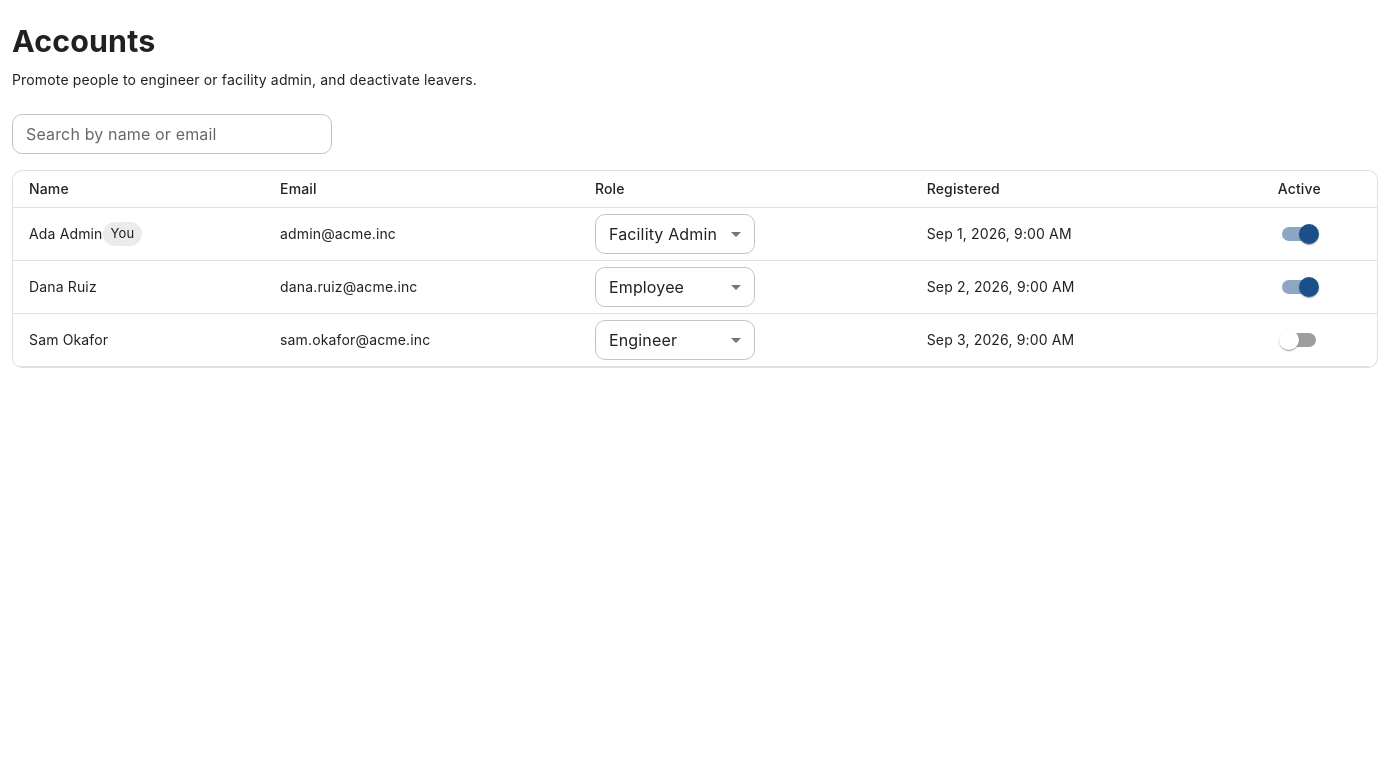
Test: activation › patches the activation state when toggled
Expected: the text "Dana Ruiz" is shown, [29,278,97,295]
Click the switch named "Active state for Dana Ruiz" at (1309, 287), box [1299,277,1319,297]
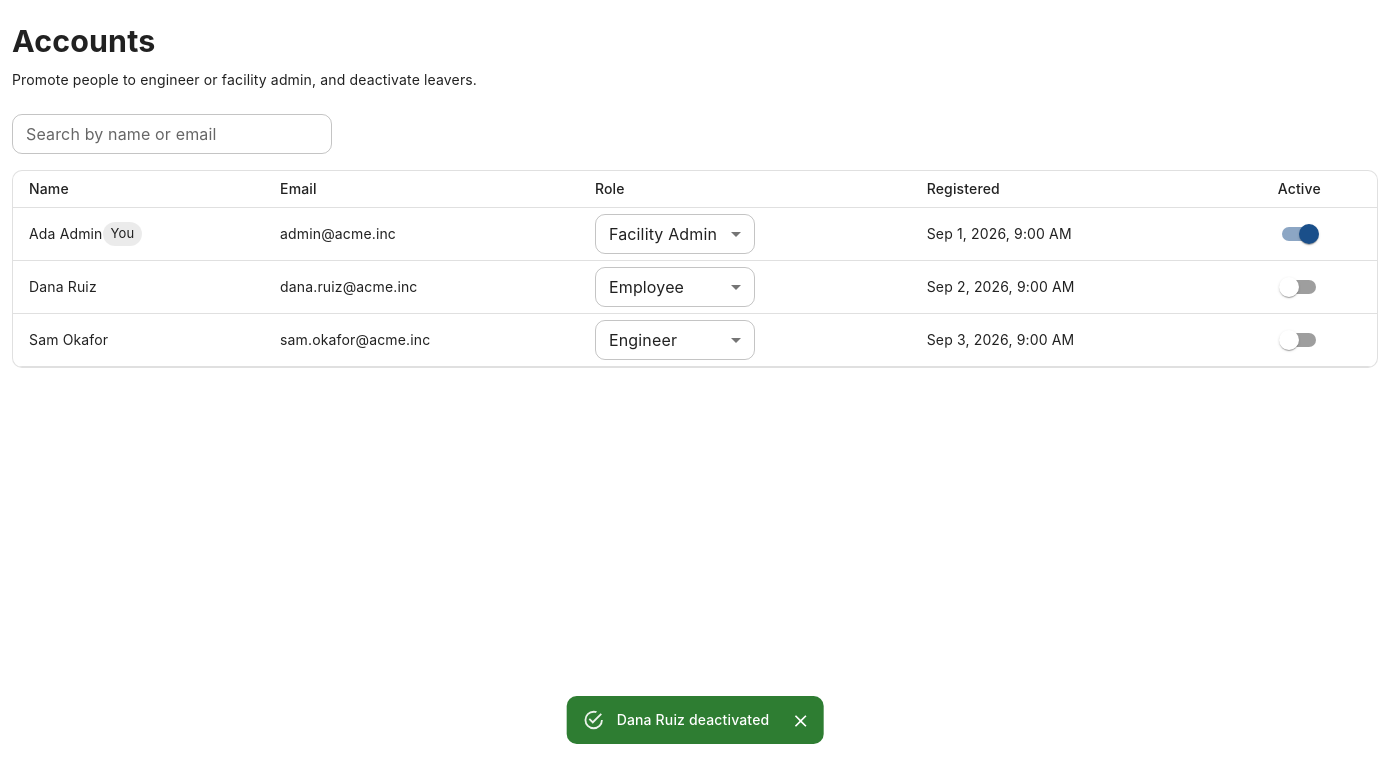
Now the text "Dana Ruiz deactivated" is shown, box [617,711,769,728]
